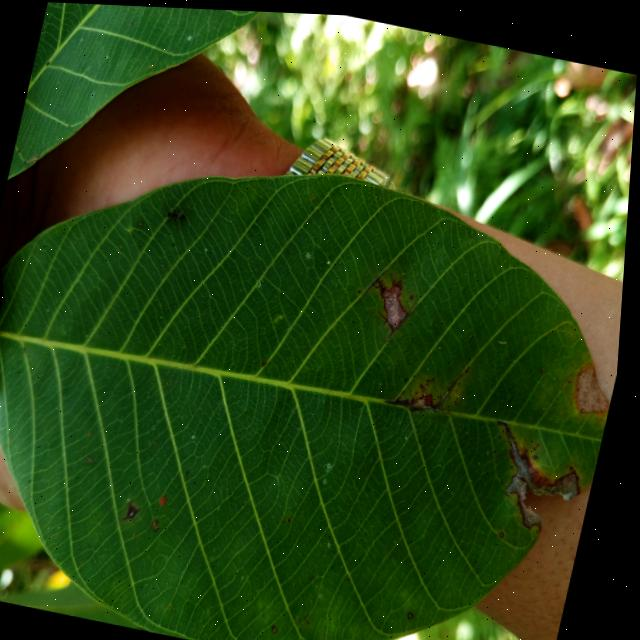Colletotrichum: (414, 608, 421, 616), (505, 526, 511, 533)
Corynespora: (388, 388, 431, 409), (370, 266, 393, 293), (126, 500, 147, 523), (390, 269, 407, 288)
Leaf-Blight: (494, 425, 595, 532), (380, 281, 415, 327)
